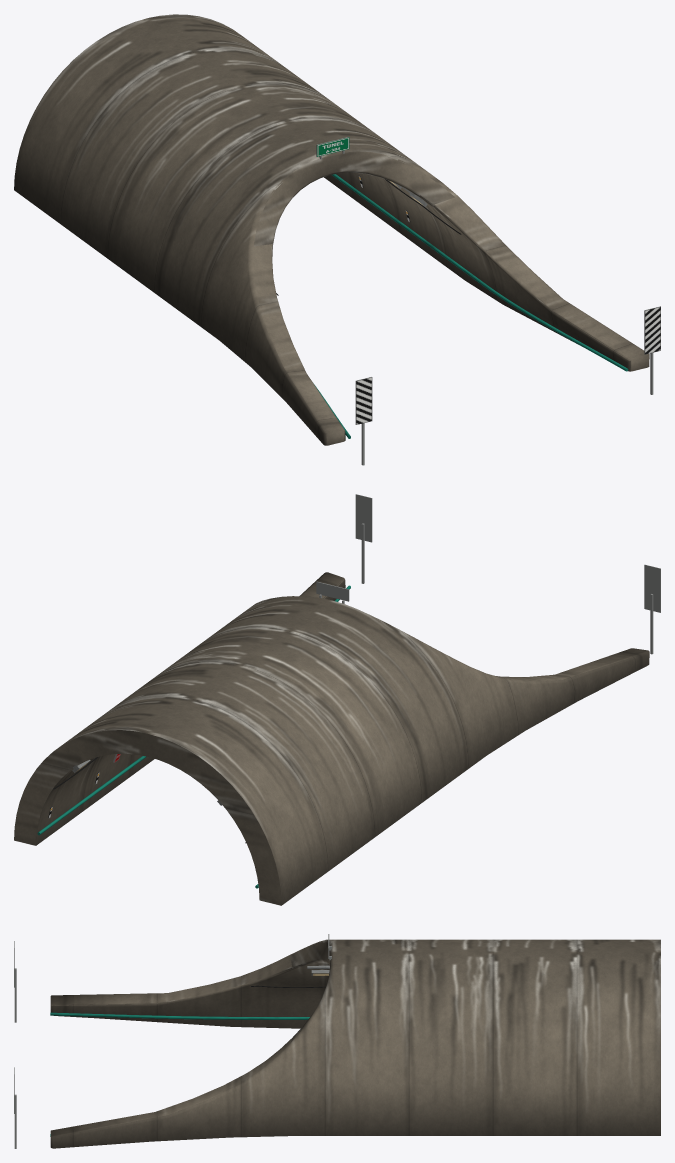
File: tunnel_a384.fbx
3 renders of one model, top to bottom at view 1: azimuth 30°, elevation 25°; view 2: azimuth 150°, elevation 25°; view 3: azimuth 270°, elevation 25°, orthographic. The views are drawn at different scales.
Parts seen in each view (by area): view 1: Cylinder001, tunnel_portal_signs, Cylinder002; view 2: Cylinder001, tunnel_portal_signs; view 3: Cylinder001, Object003, tunnel_portal_signs.
Boxes of the visible parts, x1,y1,x2,y2 form: Cylinder001: (14, 14, 649, 445); tunnel_portal_signs: (355, 306, 660, 465); Cylinder002: (331, 174, 628, 371); Cylinder001: (14, 572, 649, 905); tunnel_portal_signs: (355, 494, 660, 654); Cylinder001: (50, 939, 660, 1148); Object003: (50, 1012, 309, 1019); tunnel_portal_signs: (14, 941, 16, 1148).
Bounding box in the file's own units: 402 × 190 × 770.
Materials: 5 (5 with a texture image).
